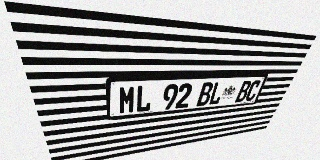2: (175, 83, 193, 109)
9: (161, 84, 179, 110)
B: (196, 82, 214, 106), (234, 80, 252, 102)
C: (244, 80, 262, 101)
L: (135, 85, 153, 113), (208, 82, 226, 105)
M: (119, 85, 136, 114)
